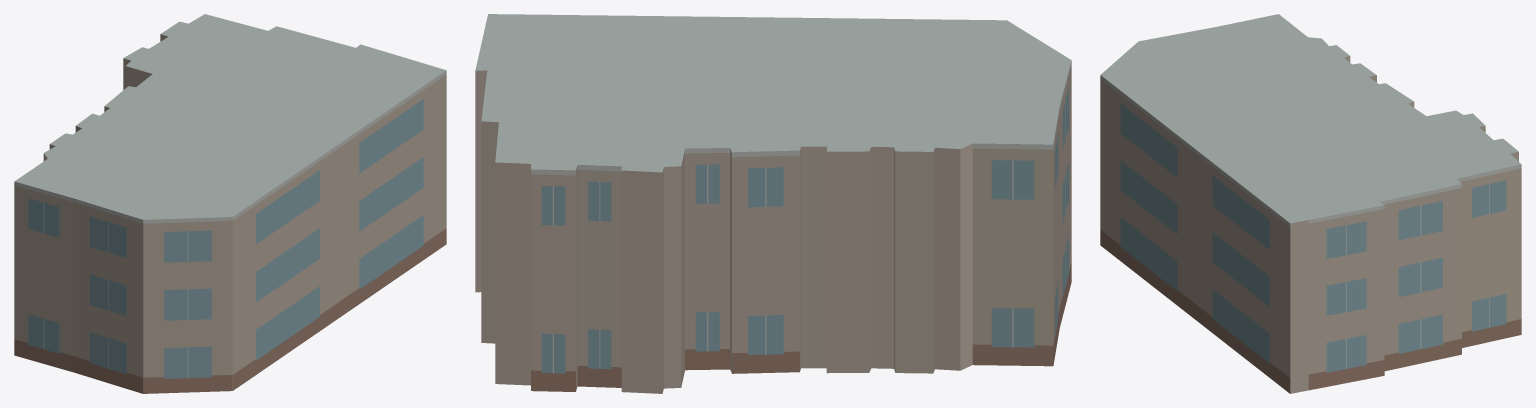
File: survey-upis-32688023.glb
3 views of the same model, side by side, from view 1: azimuth 30°, elevation 25°; view 2: azimuth 150°, elevation 25°; view 3: azimuth 270°, elevation 25° (orthographic). The views are drawn at different scales.
Visible parts, largest first — view 1: survey-upis-32688023.tmp; view 2: survey-upis-32688023.tmp; view 3: survey-upis-32688023.tmp.
Boxes of the visible parts, x1,y1,x2,y2 form: survey-upis-32688023.tmp: (14,14,446,393); survey-upis-32688023.tmp: (475,14,1071,393); survey-upis-32688023.tmp: (1100,14,1521,393).
Size of the model in its own units: 28.46 by 10.8 by 24.18.
